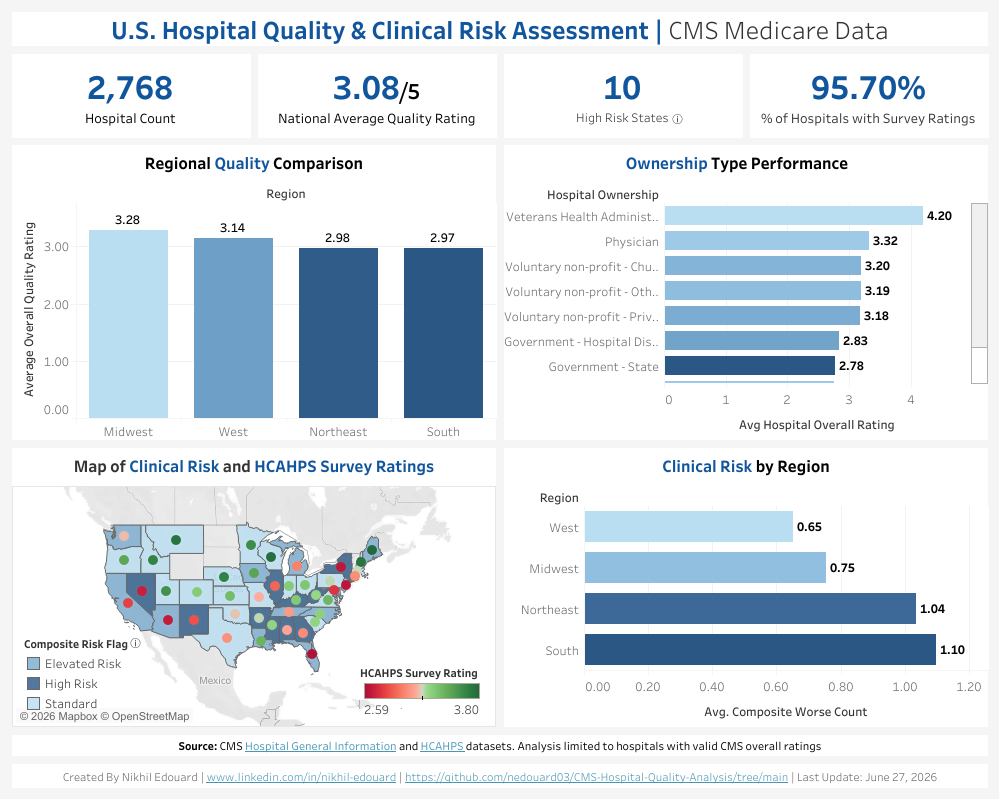

What the dashboard file says about the page in this screenshot:
{"tool":"tableau","page":{"name":"Quality Analysis Dashboard","canvas":[1000,800],"ordinal":0},"visuals":[{"type":"title","box":[8,8,984,42]},{"type":"worksheet","title":"Hospital Count","mark":"Automatic","box":[8,50,246,95]},{"type":"worksheet","title":"National Avg Ovr Rating","mark":"Automatic","box":[254,50,246,95]},{"type":"worksheet","title":"High Risk KPI","mark":"Automatic","box":[500,50,246,95]},{"type":"worksheet","title":"Percent Rated","mark":"Automatic","box":[746,50,246,95]},{"type":"worksheet","title":"Risk Descriptor","mark":"Automatic","box":[654,110,82,24]},{"type":"worksheet","title":"Regional Quality Comparison","mark":"Automatic","rows":["avg_hospital_overall_rating"],"cols":["region"],"box":[8,145,491.9,317.2]},{"type":"worksheet","title":"Ownership Type Performance","mark":"Automatic","rows":["hospital_ownership"],"cols":["avg_hospital_overall_rating"],"box":[499.9,145,492.1,317.2]},{"type":"worksheet","title":"Map","mark":"Multipolygon","box":[8,462.1,491.9,299.6]},{"type":"worksheet","title":"Clinical Risk By Region","mark":"Automatic","rows":["region"],"cols":["Composite_Worse_Count"],"box":[499.9,462.1,492.1,299.6]},{"type":"worksheet","title":"Risk Descriptor (2)","mark":"Automatic","box":[111,662,91,47]},{"type":"legend","title":"Map","param":"[federated.168rxnl0jr30no1dq8dv106flfbv].[none:composite_risk_flag:nk]","box":[27,664,120,79]},{"type":"legend","title":"Map","param":"[federated.168rxnl0jr30no1dq8dv106flfbv].[attr:patient_survey_star_rating:qk]","box":[361,689,124,59]},{"type":"text","box":[8,761.7,984,30.3]}]}

Visuals, with their boxes in screenshot pixels (x1, y1, x2, y2), scaled from the page's 1000x800 canvas onto the 999x799 screenshot:
title: [8,8,991,50]
"Hospital Count" worksheet: [8,50,254,145]
"National Avg Ovr Rating" worksheet: [254,50,500,145]
"High Risk KPI" worksheet: [500,50,745,145]
"Percent Rated" worksheet: [745,50,991,145]
"Risk Descriptor" worksheet: [653,110,735,134]
"Regional Quality Comparison" worksheet: [8,145,499,462]
"Ownership Type Performance" worksheet: [499,145,991,462]
"Map" worksheet (Multipolygon marks): [8,462,499,761]
"Clinical Risk By Region" worksheet: [499,462,991,761]
"Risk Descriptor (2)" worksheet: [111,661,202,708]
"Map" legend: [27,663,147,742]
"Map" legend: [361,688,485,747]
text: [8,761,991,791]
